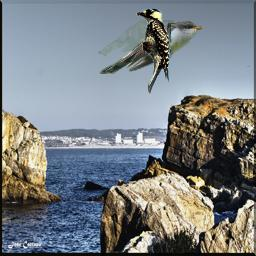Cuckoo: (98, 20, 202, 74)
Woodpecker: (135, 8, 171, 94)
